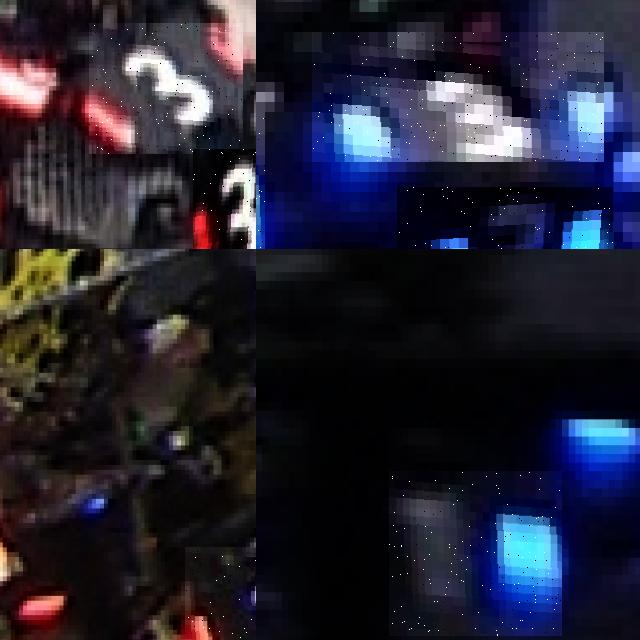B1: (389, 471, 562, 636)
B3: (312, 32, 604, 162), (396, 187, 613, 249)
R1: (185, 547, 256, 640)
R3: (89, 23, 243, 154), (193, 149, 256, 249)
